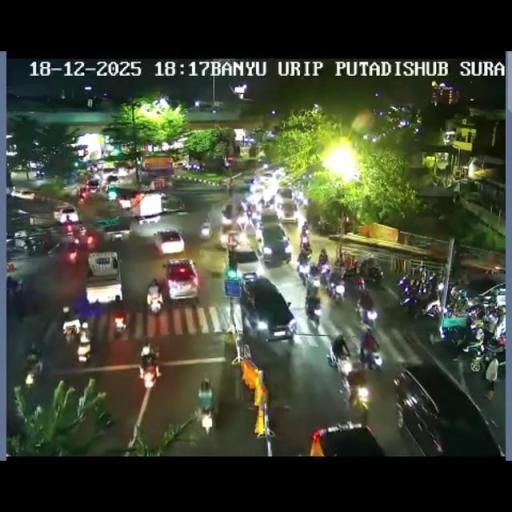Car: (395, 358, 502, 454), (238, 274, 295, 342), (309, 422, 386, 454), (85, 252, 122, 306), (164, 258, 199, 302), (260, 224, 290, 263), (232, 242, 262, 281), (153, 229, 184, 254), (276, 188, 298, 222), (219, 218, 243, 249), (159, 194, 186, 214), (53, 203, 78, 223), (258, 206, 281, 226), (248, 178, 267, 198), (106, 229, 130, 243), (83, 178, 100, 194), (12, 188, 34, 200), (198, 218, 210, 240), (101, 164, 117, 178), (260, 170, 276, 184)
Motorcycle: (302, 241, 382, 320), (332, 356, 373, 410), (461, 328, 504, 374), (436, 315, 473, 354), (138, 346, 160, 386), (358, 339, 383, 370), (446, 286, 470, 316), (222, 326, 238, 370), (356, 296, 378, 327), (332, 333, 350, 367), (76, 324, 92, 362), (197, 402, 215, 434), (327, 272, 346, 301), (24, 358, 42, 387), (396, 276, 414, 305), (38, 234, 60, 256), (14, 286, 28, 318), (422, 298, 442, 320), (492, 309, 506, 340), (465, 303, 485, 324), (296, 256, 312, 282), (113, 310, 128, 337), (148, 290, 163, 316), (306, 300, 320, 326), (342, 262, 362, 280), (63, 323, 78, 346), (366, 265, 384, 284), (305, 274, 319, 297), (245, 201, 260, 222), (426, 272, 438, 298), (316, 218, 335, 234), (6, 275, 18, 298), (260, 192, 275, 209), (317, 250, 329, 271), (395, 402, 404, 429), (254, 228, 265, 250), (318, 267, 330, 287), (25, 237, 37, 255), (355, 275, 366, 291), (301, 238, 311, 254), (62, 305, 70, 320), (301, 222, 309, 236), (72, 234, 80, 246), (227, 182, 234, 195), (438, 282, 444, 291)
